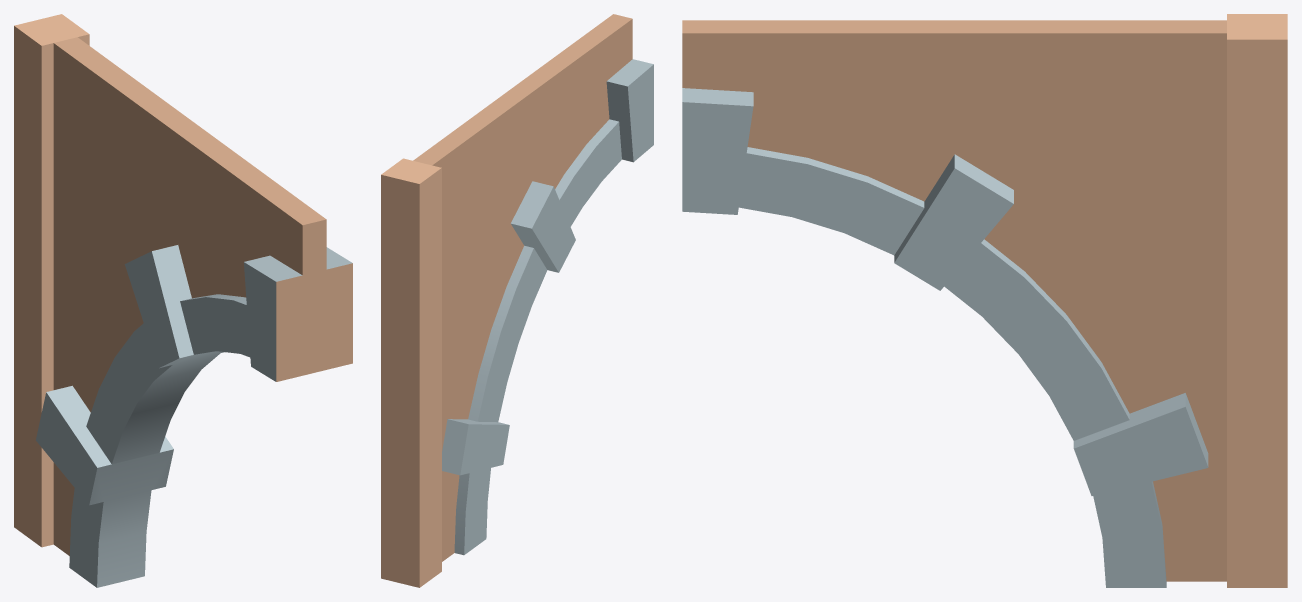
File: wallWoodArchTopDetail.glb
3 renders of one model, left to right at view 1: azimuth 30°, elevation 25°; view 2: azimuth 150°, elevation 25°; view 3: azimuth 270°, elevation 25°, orthographic. The views are drawn at different scales.
Visible parts, largest first — view 1: wallWoodArchTopDetail; view 2: wallWoodArchTopDetail; view 3: wallWoodArchTopDetail.
Part boxes in pixels (left/top/right/bottom): wallWoodArchTopDetail: left=14, top=14, right=352, bottom=587; wallWoodArchTopDetail: left=381, top=14, right=653, bottom=587; wallWoodArchTopDetail: left=682, top=14, right=1287, bottom=587.
Bounding box in the file's own units: 0.16 × 1 × 1.
